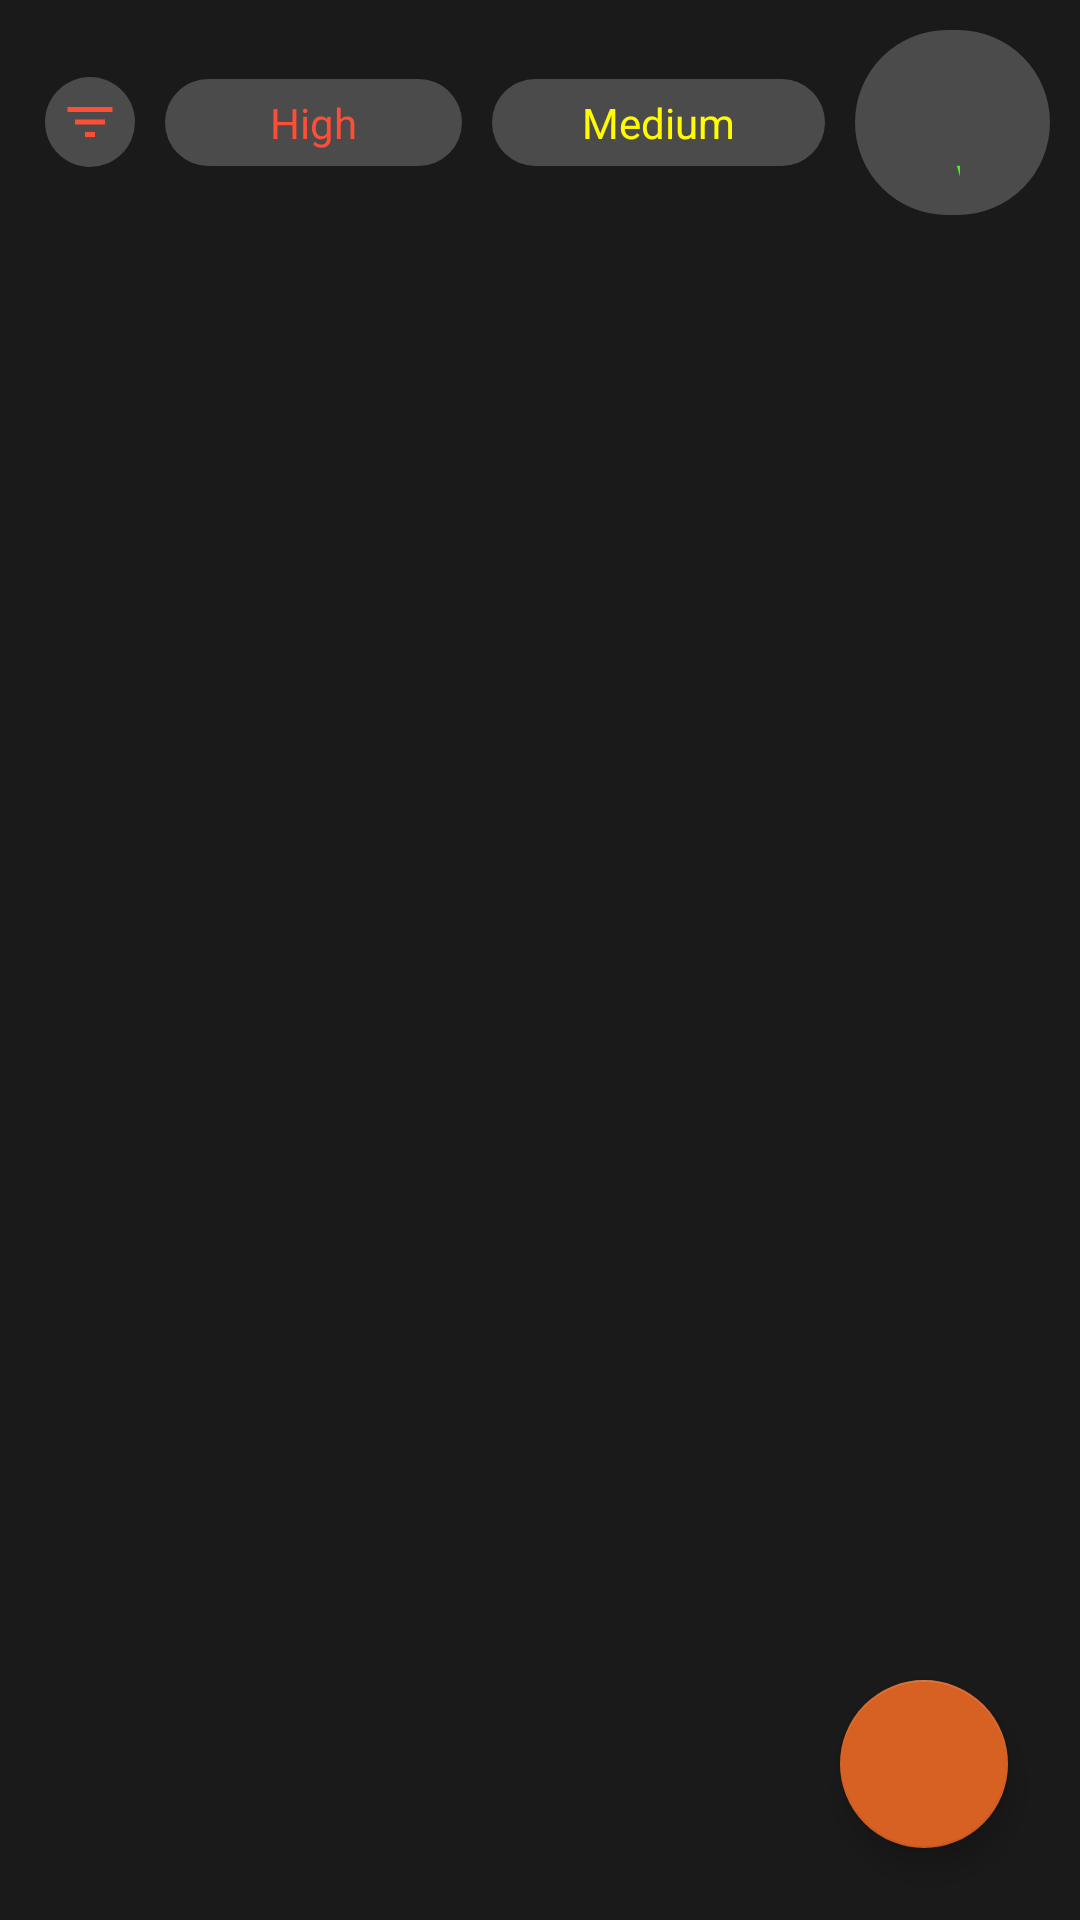

Screen size 1080 x 1920. Icon name, then its center in pixels as point (x, y):
filter: point (90, 122)
